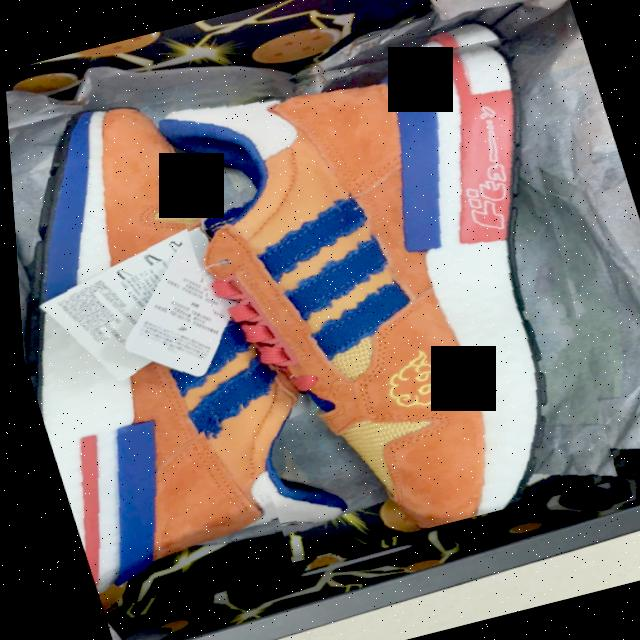shoe: (141, 16, 640, 562), (4, 71, 378, 610)
